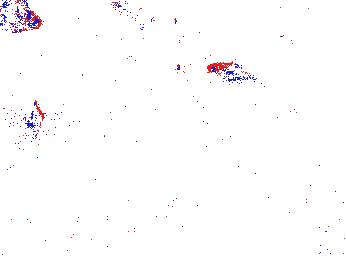X-ray fish: (1, 4, 44, 33), (28, 104, 45, 136)
red belly glassfish: (206, 62, 259, 82), (278, 31, 316, 56)
redtail glassfish: (108, 1, 165, 31)
